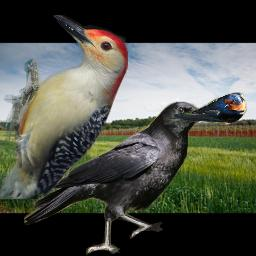Crow: (24, 100, 215, 256)
Swallow: (164, 92, 247, 125)
Woodpecker: (0, 15, 128, 199)
